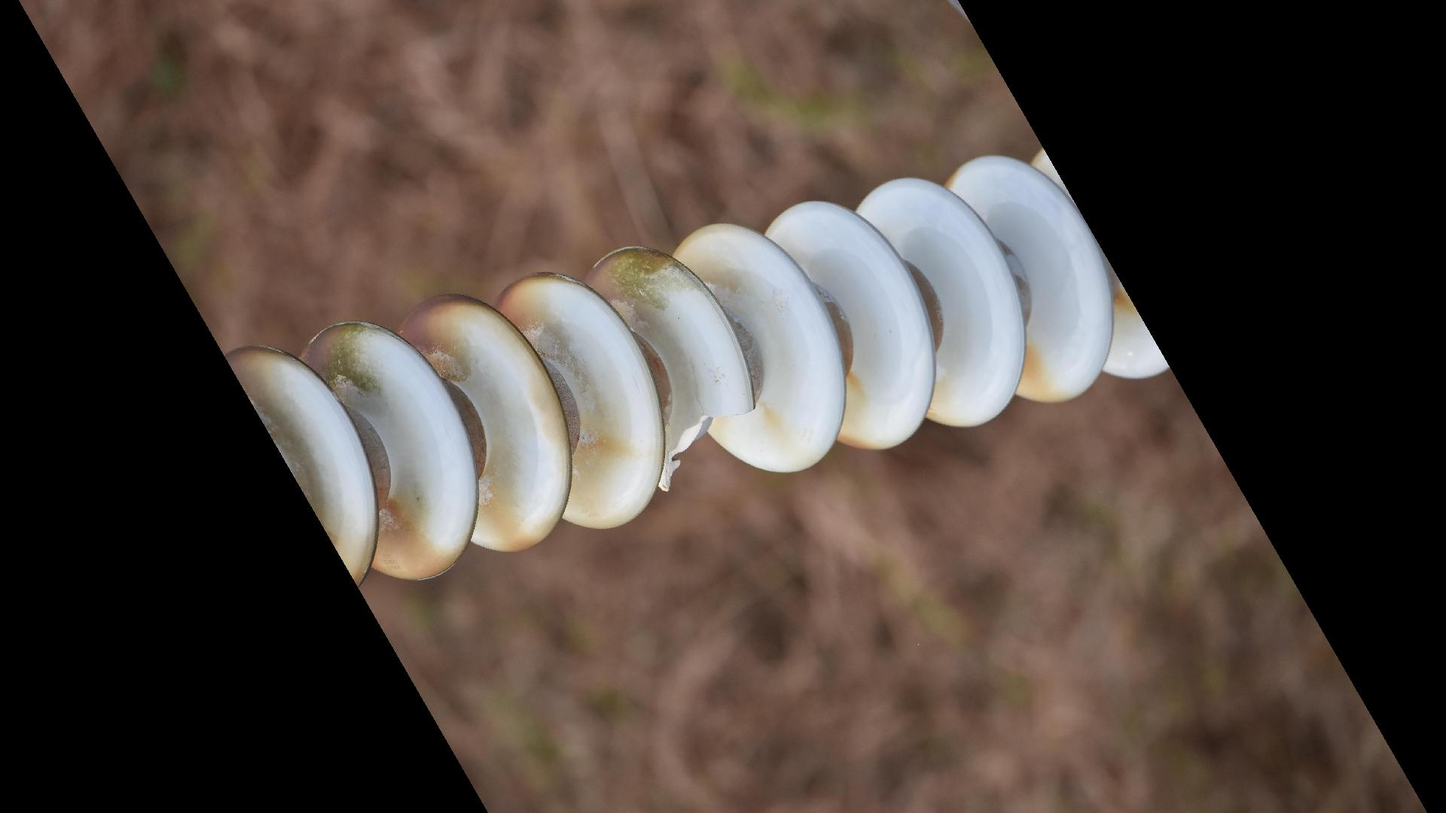insulator: (214, 141, 1179, 591)
insulator_breakage: (651, 380, 761, 505)
